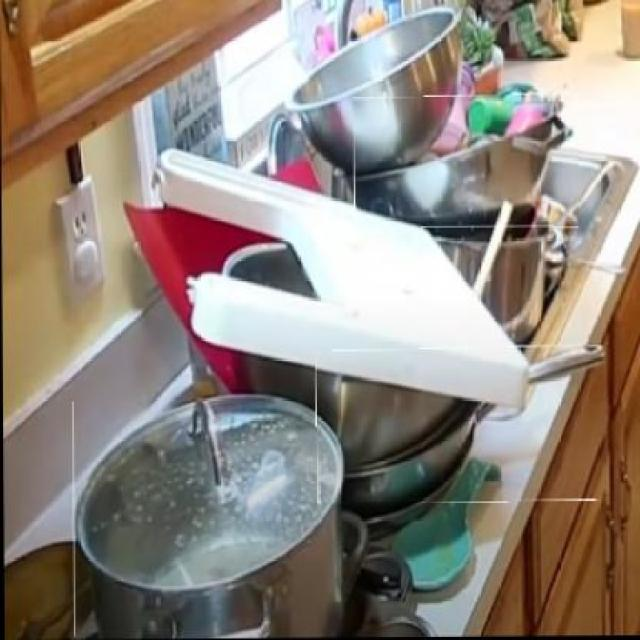pot: (71, 400, 345, 639), (316, 348, 610, 506), (354, 94, 579, 231), (420, 226, 556, 343)
